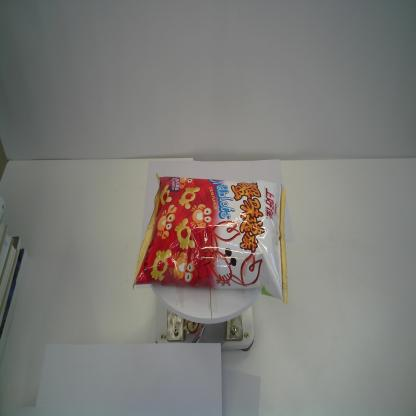Puffed Food: (131, 171, 289, 305)
